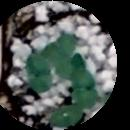Basil: (24, 49, 53, 90), (43, 35, 74, 61), (74, 74, 95, 110), (48, 106, 80, 124)
